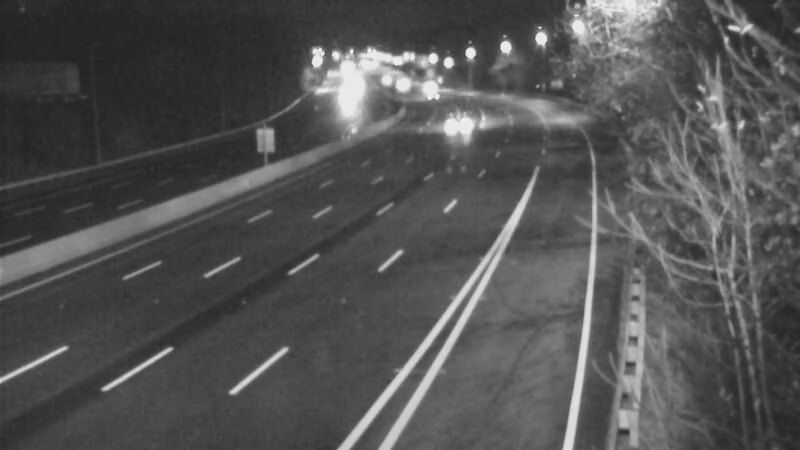vehicle: (357, 56, 407, 106), (378, 63, 428, 113), (398, 61, 448, 111), (413, 74, 463, 124), (438, 99, 488, 149), (317, 72, 367, 122)
